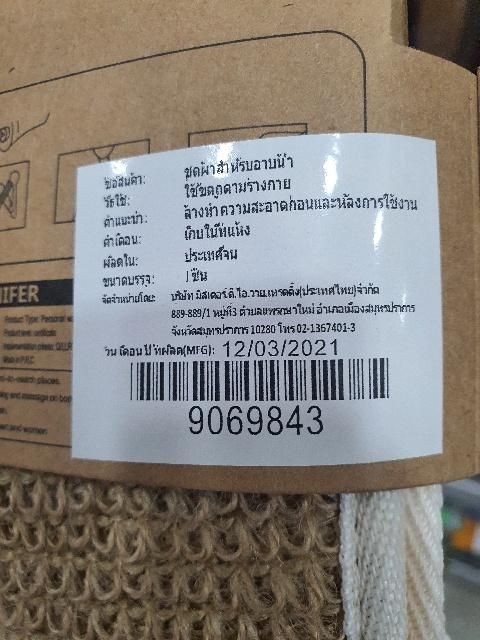Barcode: (121, 354, 398, 446)
